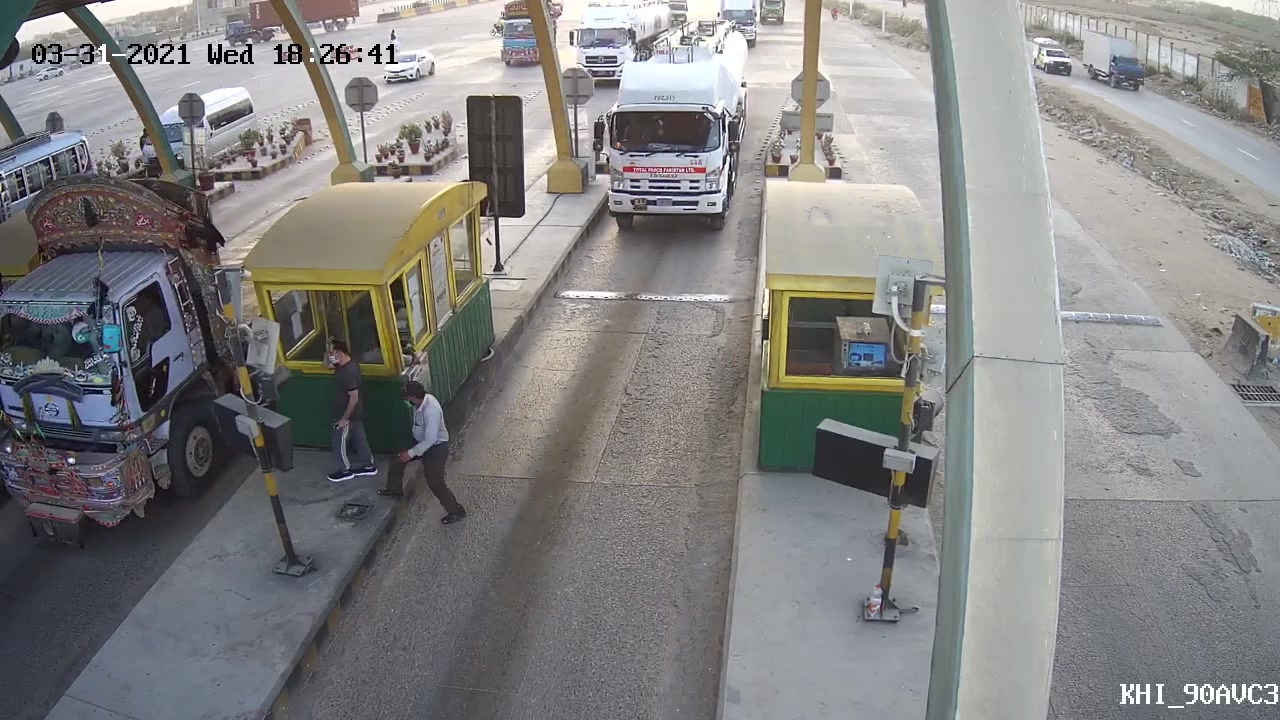F6: (588, 15, 752, 240)
